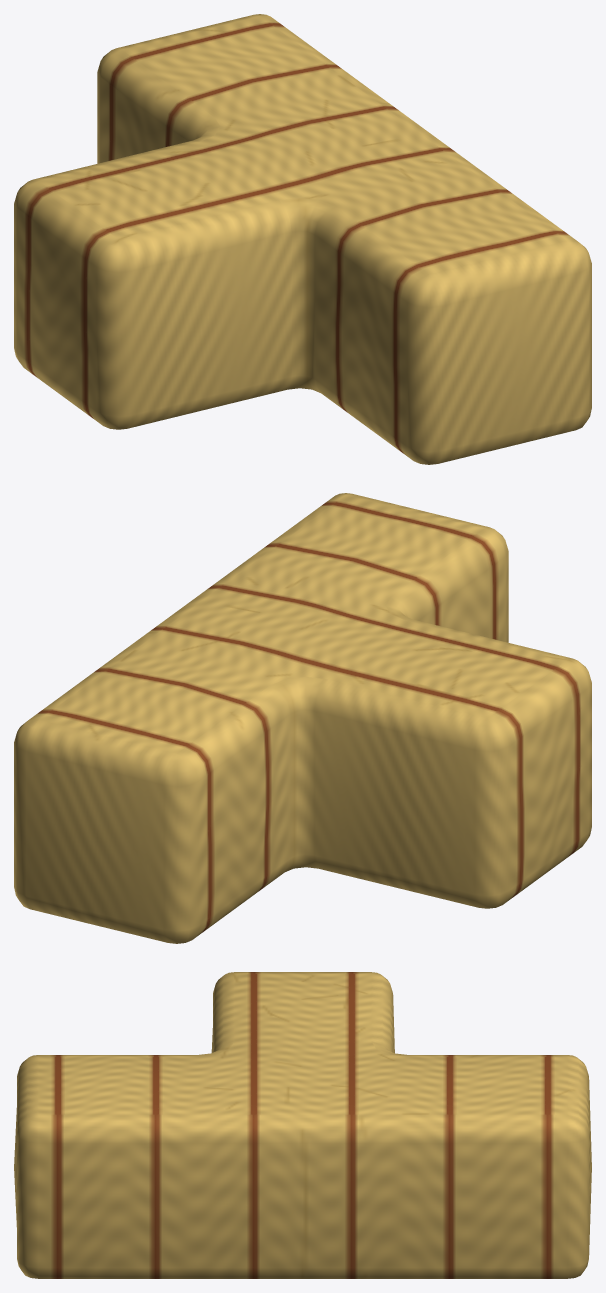
The model's file is HayBale_T.fbx.
The picture shows the model from 3 angles, top to bottom: view 1: azimuth 30°, elevation 25°; view 2: azimuth 150°, elevation 25°; view 3: azimuth 270°, elevation 25°; orthographic projection. The views are drawn at different scales.
Visible parts, largest first — view 1: HayBale_T; view 2: HayBale_T; view 3: HayBale_T.
Part boxes in pixels (bbox=[...]): HayBale_T: bbox=[14, 14, 591, 464]; HayBale_T: bbox=[14, 493, 591, 943]; HayBale_T: bbox=[14, 972, 591, 1278].
Bounding box in the file's own units: 1.95 × 0.9078 × 2.95.
Materials: 1 (1 with a texture image).
